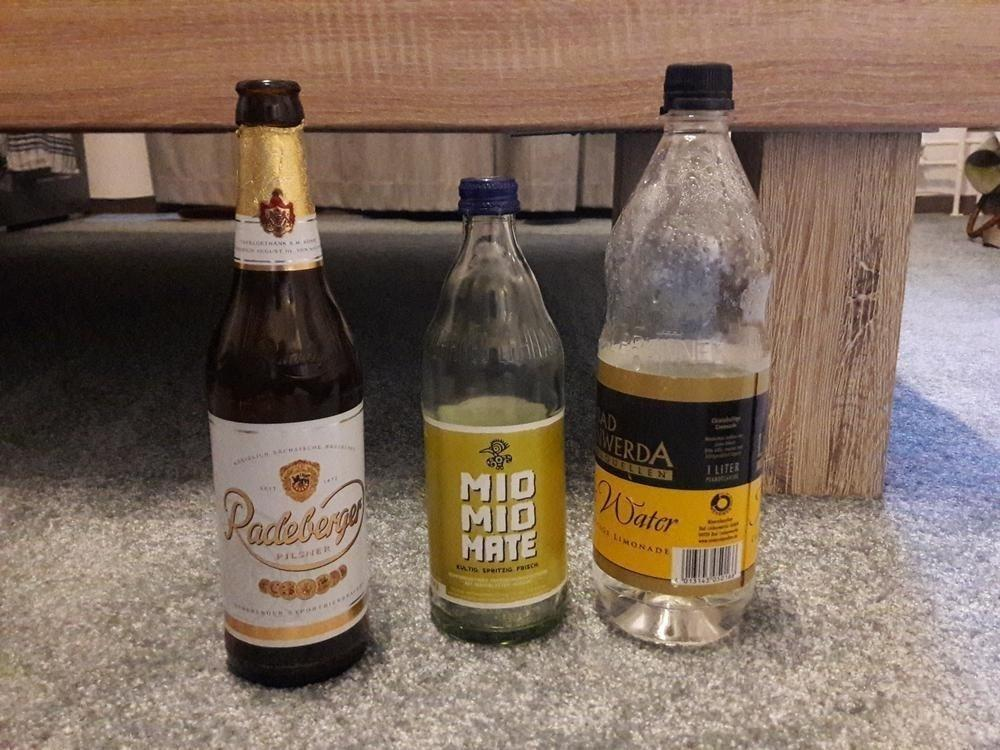bottle-glass: (204, 76, 375, 688), (414, 164, 573, 645)
bottle-plastic: (590, 55, 777, 649)
